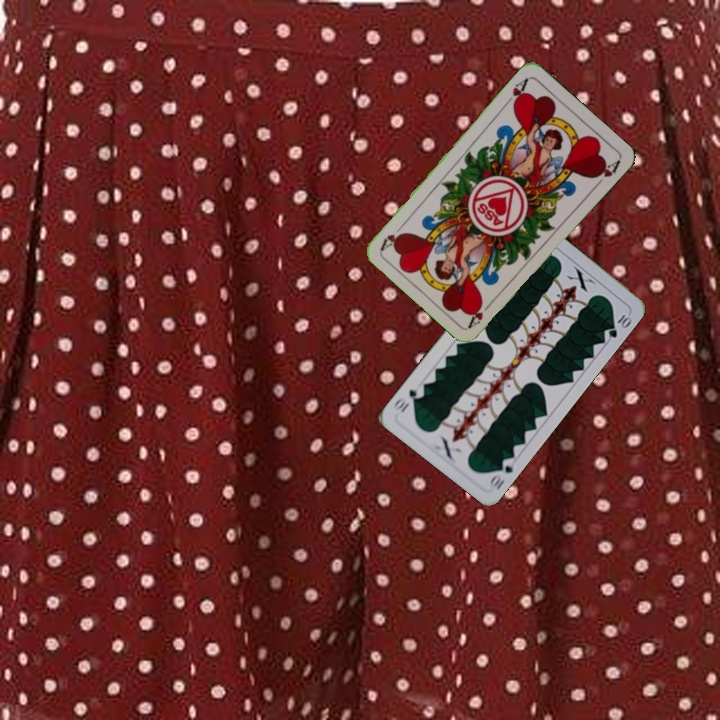G10: (485, 454, 516, 493)
HA: (464, 296, 496, 330), (501, 74, 531, 110)
